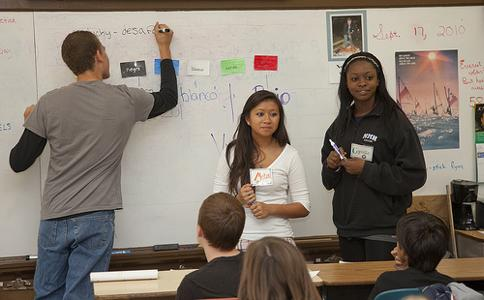person: (10, 23, 179, 298)
